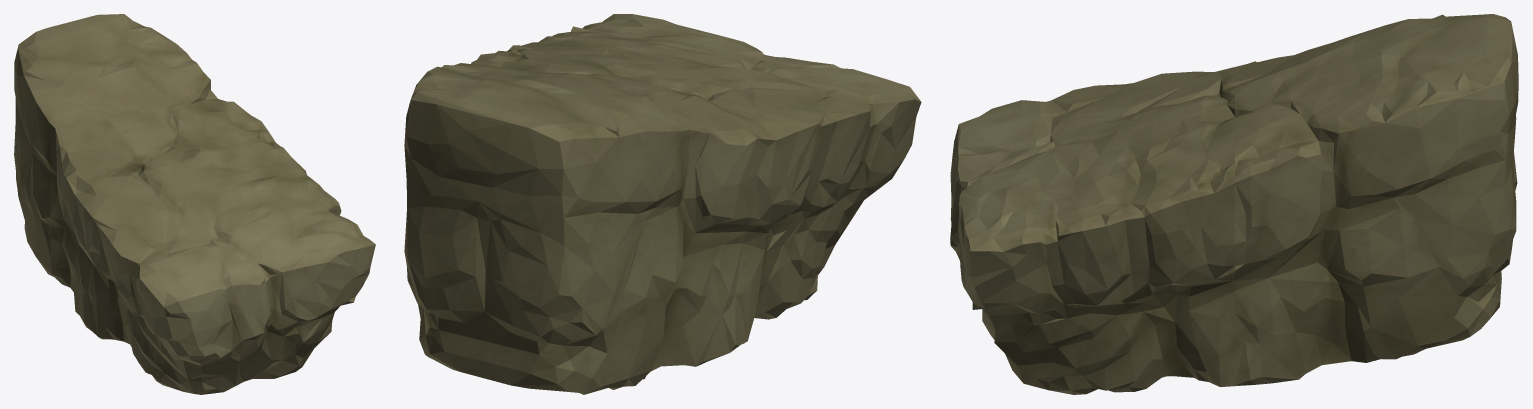
File: plataforma2.glb
3 renders of one model, left to right at view 1: azimuth 30°, elevation 25°; view 2: azimuth 150°, elevation 25°; view 3: azimuth 270°, elevation 25°, orthographic. The views are drawn at different scales.
Parts seen in each view (by area): view 1: tripo_node_8164f704-ffb0-4101-96d6-04106a7c2865; view 2: tripo_node_8164f704-ffb0-4101-96d6-04106a7c2865; view 3: tripo_node_8164f704-ffb0-4101-96d6-04106a7c2865.
Part boxes in pixels (bbox=[...]): tripo_node_8164f704-ffb0-4101-96d6-04106a7c2865: bbox=[14, 14, 375, 394]; tripo_node_8164f704-ffb0-4101-96d6-04106a7c2865: bbox=[404, 14, 921, 394]; tripo_node_8164f704-ffb0-4101-96d6-04106a7c2865: bbox=[950, 14, 1518, 394].
Size of the model in its own units: 0.6013 by 0.6085 by 0.9997.
1 material, 1 textured.
